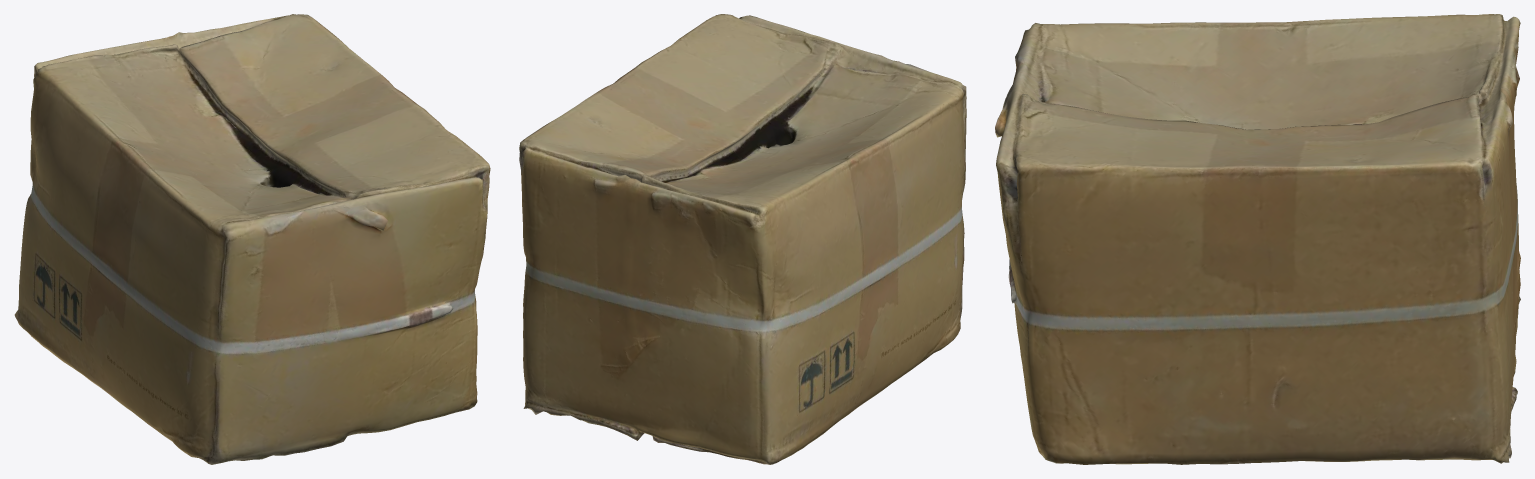
File: cardboard_box_01.gltf
The picture shows the model from 3 angles, left to right: view 1: azimuth 30°, elevation 25°; view 2: azimuth 150°, elevation 25°; view 3: azimuth 270°, elevation 25°; orthographic projection. The views are drawn at different scales.
Visible parts, largest first — view 1: cardboard_box_01; view 2: cardboard_box_01; view 3: cardboard_box_01.
Part boxes in pixels (left/top/right/bottom): cardboard_box_01: left=14, top=14, right=490, bottom=464; cardboard_box_01: left=519, top=14, right=966, bottom=464; cardboard_box_01: left=995, top=14, right=1520, bottom=464.
Bounding box in the file's own units: 0.387 × 0.3418 × 0.5159.
Materials: 1 (1 with a texture image).
